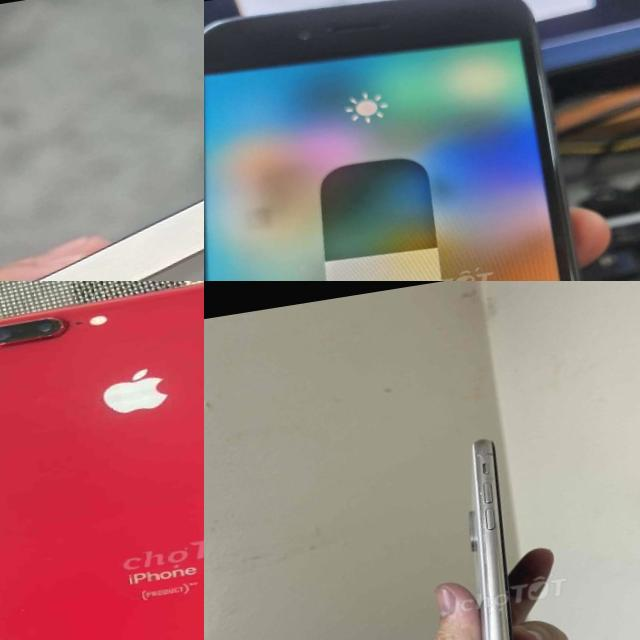gen_12_13: (0, 144, 204, 281)
gen_7_8: (204, 0, 640, 281), (0, 283, 204, 640)
gen_x_xs: (469, 439, 514, 640)
